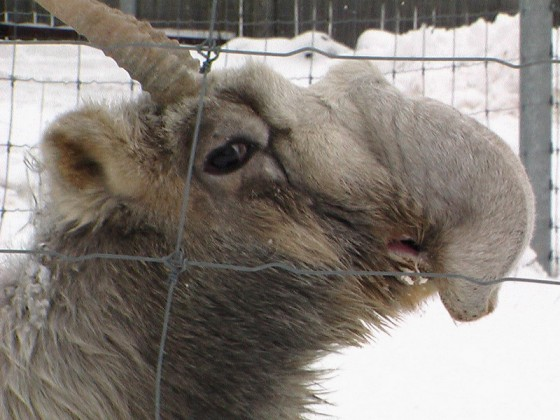saiga: (1, 2, 542, 417)
